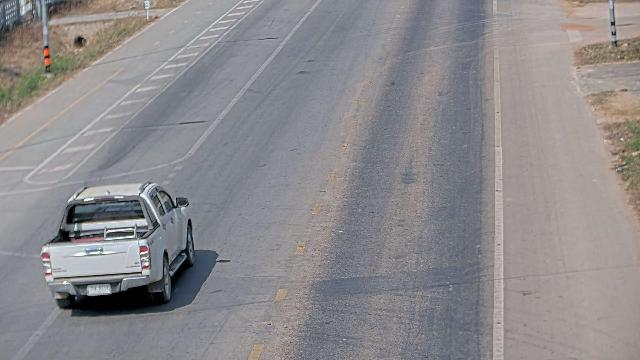pickup-truck: (39, 180, 196, 308)
